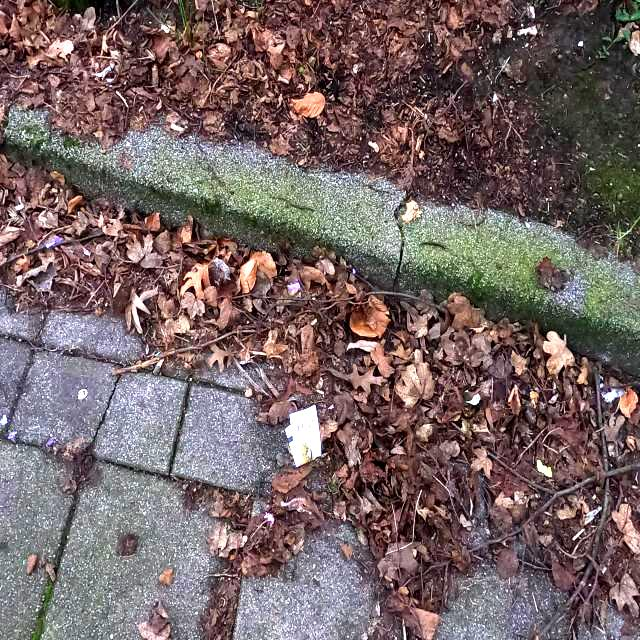Paper: (284, 402, 322, 470)
